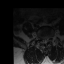CCS_normal: (44, 37, 46, 44)
LFS_severe_stenosis: (48, 36, 49, 40)
LLS_normal: (46, 37, 48, 43)
RFS_severe_stenosis: (41, 37, 42, 42)
RLS_normal: (43, 38, 44, 44)
